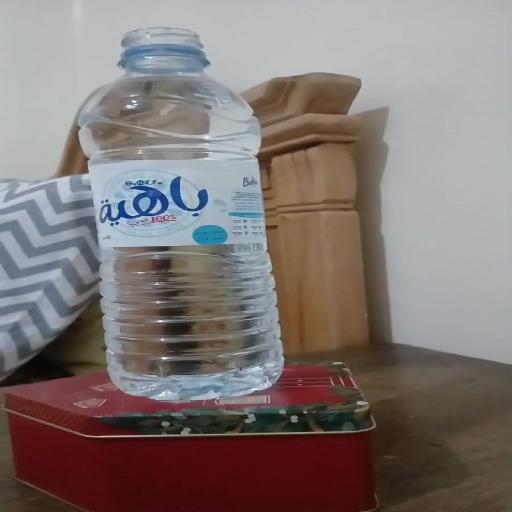bouteille non conformite: (89, 28, 231, 78)
